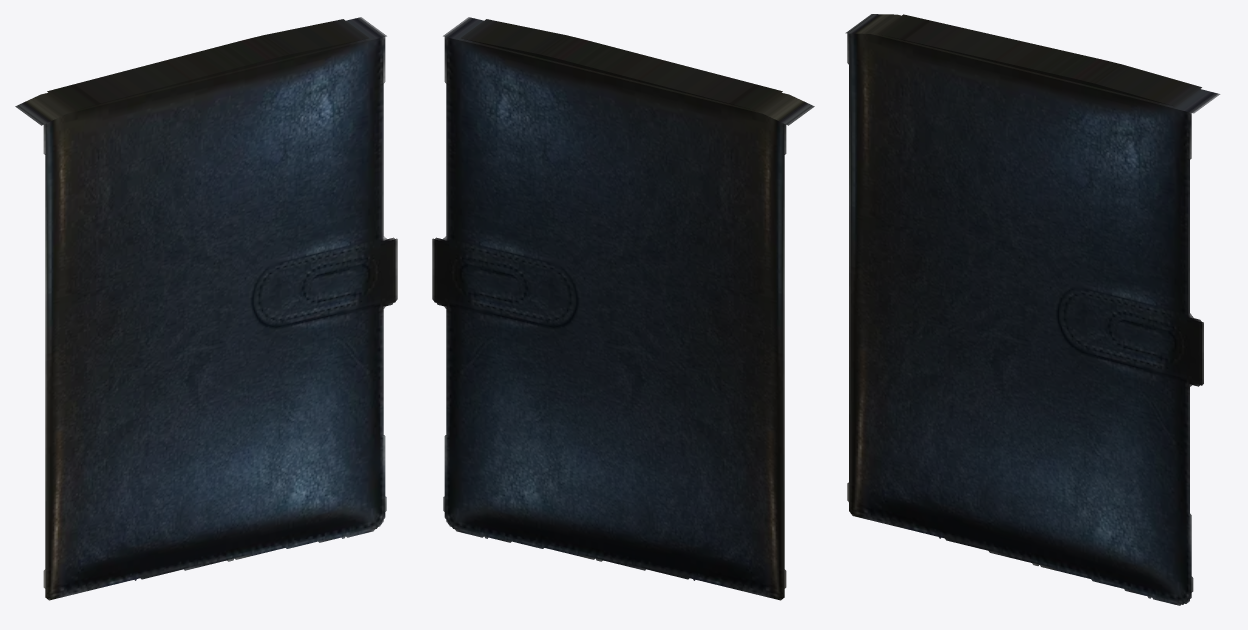
3 renders of one model, left to right at view 1: azimuth 30°, elevation 25°; view 2: azimuth 150°, elevation 25°; view 3: azimuth 330°, elevation 25°, orthographic.
Parts seen in each view (by area): view 1: CX-04; view 2: CX-04; view 3: CX-04.
Boxes of the visible parts, x1,y1,x2,y2 form: CX-04: [15, 17, 397, 600]; CX-04: [432, 17, 814, 600]; CX-04: [845, 14, 1220, 605].
Size of the model in its own units: 15.8 by 21 by 2.
Materials: 1 (1 with a texture image).
